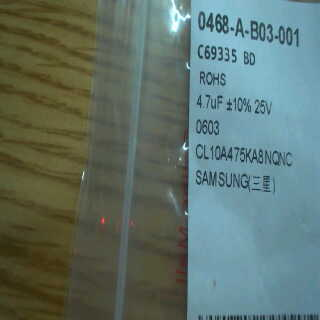4.7uF: (194, 93, 223, 115)
